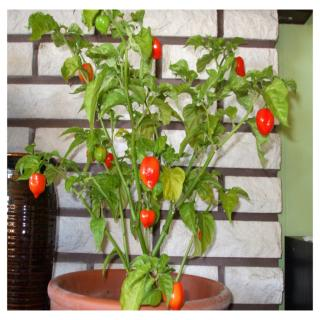tomato: (161, 280, 185, 312), (138, 157, 160, 189), (255, 108, 276, 134), (29, 174, 46, 198), (140, 209, 155, 230), (79, 62, 93, 83), (151, 34, 162, 59), (94, 146, 106, 162), (235, 55, 243, 76), (105, 152, 114, 168)
